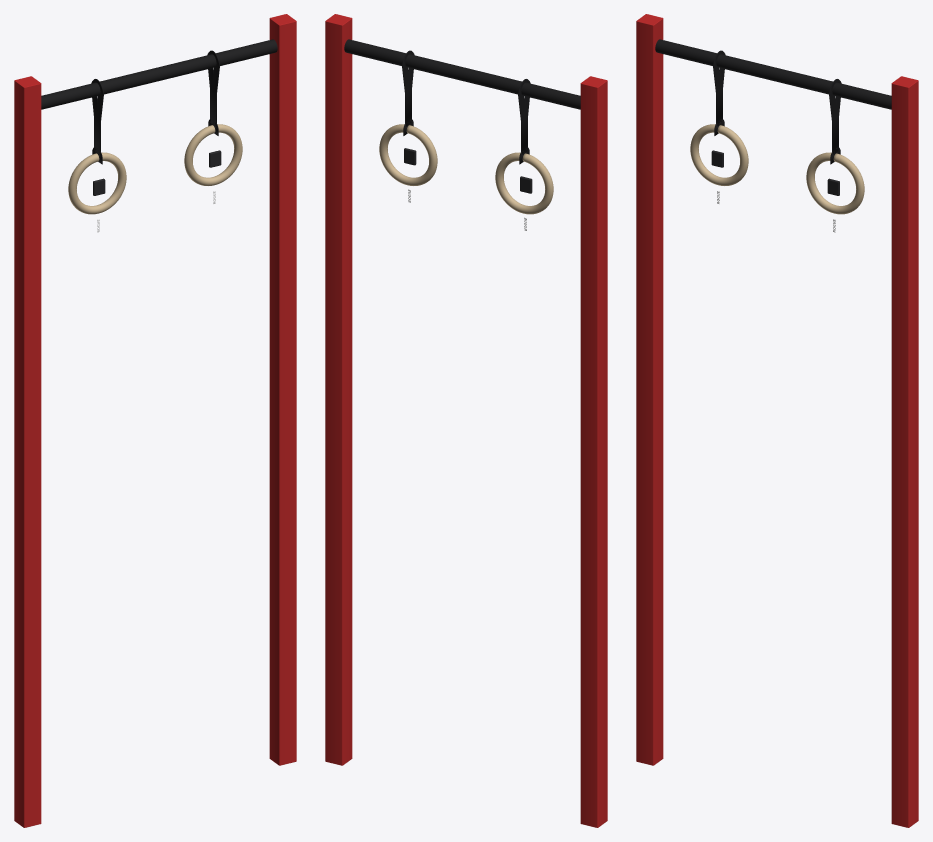
The model's file is rogue-wood-gymnastics-rings_v001.glb.
The picture shows the model from 3 angles, left to right: view 1: azimuth 30°, elevation 25°; view 2: azimuth 150°, elevation 25°; view 3: azimuth 330°, elevation 25°; orthographic projection.
Visible parts, largest first — view 1: rogue-wood-gymnastics-rings_red, rogue-wood-gymnastics-rings_frame, rogue-wood-gymnastics-rings_birch, rogue-wood-gymnastics-rings_strap; view 2: rogue-wood-gymnastics-rings_red, rogue-wood-gymnastics-rings_frame, rogue-wood-gymnastics-rings_birch, rogue-wood-gymnastics-rings_strap; view 3: rogue-wood-gymnastics-rings_red, rogue-wood-gymnastics-rings_frame, rogue-wood-gymnastics-rings_birch, rogue-wood-gymnastics-rings_strap.
Boxes of the visible parts, x1,y1,x2,y2 form: rogue-wood-gymnastics-rings_red: (14,14,296,827); rogue-wood-gymnastics-rings_frame: (41,39,277,109); rogue-wood-gymnastics-rings_birch: (68,124,242,214); rogue-wood-gymnastics-rings_strap: (91,50,219,164); rogue-wood-gymnastics-rings_red: (325,14,607,827); rogue-wood-gymnastics-rings_frame: (344,39,580,109); rogue-wood-gymnastics-rings_birch: (379,124,553,214); rogue-wood-gymnastics-rings_strap: (402,50,530,164); rogue-wood-gymnastics-rings_red: (636,14,918,827); rogue-wood-gymnastics-rings_frame: (655,39,891,109); rogue-wood-gymnastics-rings_birch: (690,124,864,214); rogue-wood-gymnastics-rings_strap: (713,50,841,164).
Size of the model in its own units: 1.18 by 3.05 by 0.0918.
